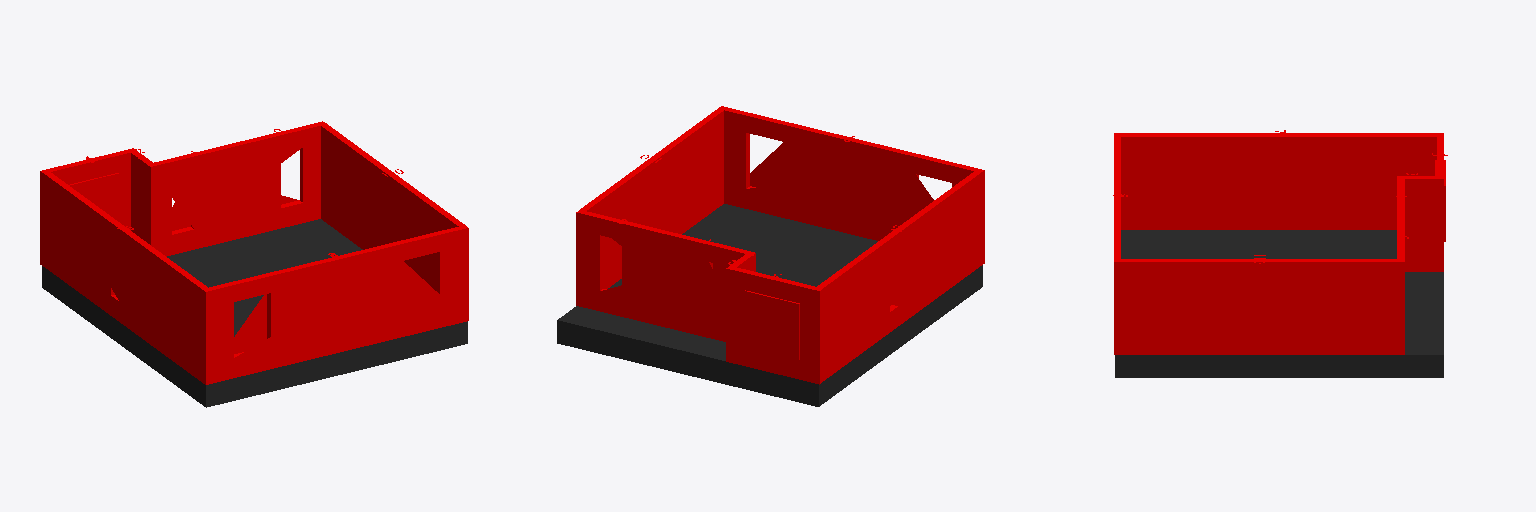
Rendered from 2_objects_outline_with_openings.obj.
The picture shows the model from 3 angles: view 1: azimuth 30°, elevation 25°; view 2: azimuth 150°, elevation 25°; view 3: azimuth 270°, elevation 25°; orthographic projection.
Parts seen in each view (by area): view 1: Outline_Walls, Foundation; view 2: Outline_Walls, Foundation; view 3: Outline_Walls, Foundation.
Boxes of the visible parts, x1,y1,x2,y2 form: Outline_Walls: [40, 121, 468, 384]; Foundation: [42, 219, 467, 407]; Outline_Walls: [576, 106, 984, 384]; Foundation: [557, 204, 982, 406]; Outline_Walls: [1114, 133, 1445, 354]; Foundation: [1115, 230, 1443, 377].
Bounding box in the file's own units: 9.19 × 3.8 × 9.77.